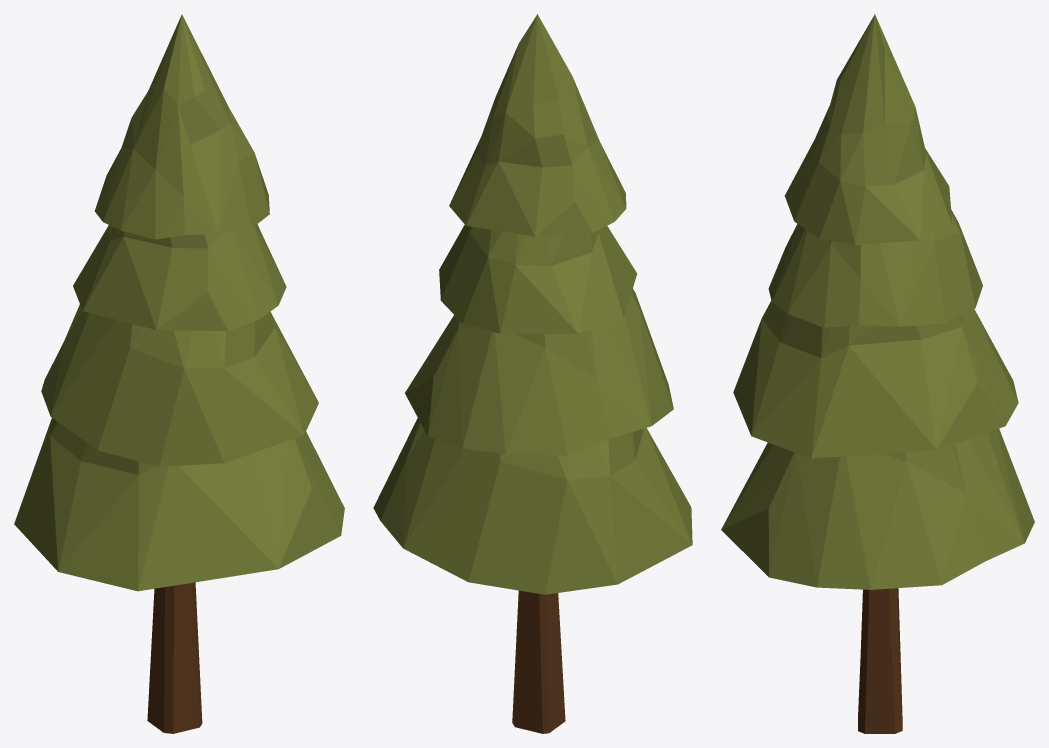
File: tree.pine.fbx
3 renders of one model, left to right at view 1: azimuth 30°, elevation 25°; view 2: azimuth 150°, elevation 25°; view 3: azimuth 270°, elevation 25°, orthographic.
Parts seen in each view (by area): view 1: Cylinder.004; view 2: Cylinder.004; view 3: Cylinder.004.
Part boxes in pixels (x1,y1,x2,y2): Cylinder.004: [14, 14, 344, 733]; Cylinder.004: [373, 14, 692, 733]; Cylinder.004: [721, 14, 1034, 733].
Size of the model in its own units: 389 by 928 by 371.
